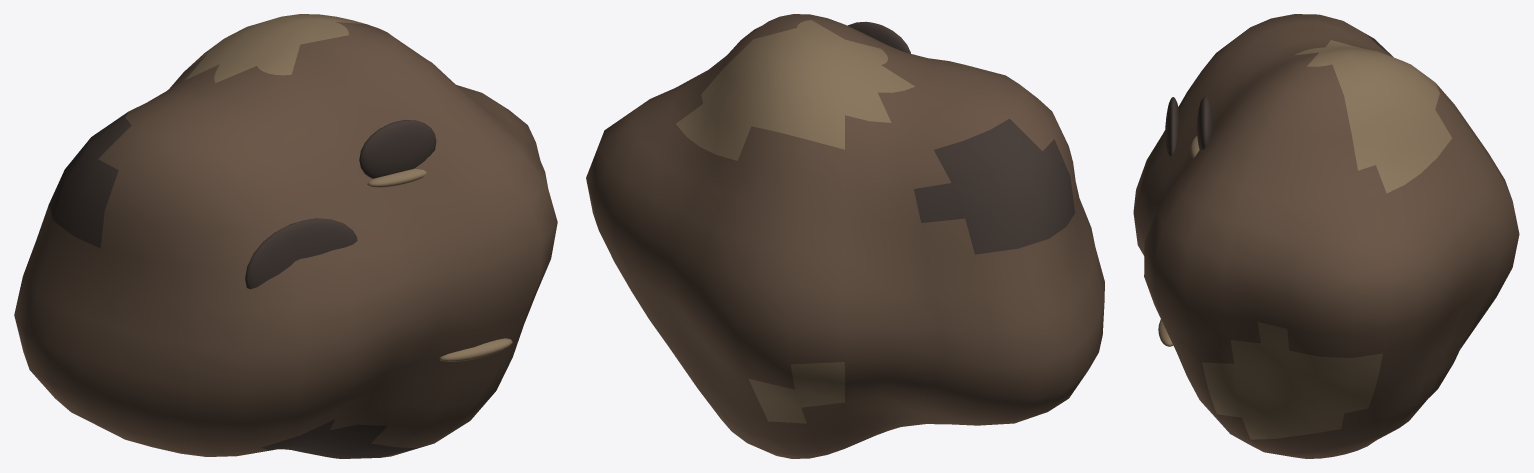
The model's file is warm_asteroid.glb.
3 views of the same model, side by side, from view 1: azimuth 30°, elevation 25°; view 2: azimuth 150°, elevation 25°; view 3: azimuth 270°, elevation 25° (orthographic). The views are drawn at different scales.
Visible parts, largest first — view 1: RockBody, CraterBasin_0, CraterBasin_2, CraterLip_1, CraterLip_2; view 2: RockBody, CraterBasin_2; view 3: RockBody, CraterBasin_2, CraterBasin_0.
Boxes of the visible parts, box(x1,y1,x2,y2) form: RockBody: box(14, 14, 557, 458); CraterBasin_0: box(245, 218, 357, 289); CraterBasin_2: box(359, 120, 436, 178); CraterLip_1: box(439, 338, 512, 361); CraterLip_2: box(367, 169, 426, 187); RockBody: box(586, 14, 1104, 458); CraterBasin_2: box(847, 21, 910, 53); RockBody: box(1133, 14, 1519, 458); CraterBasin_2: box(1197, 96, 1213, 149); CraterBasin_0: box(1165, 97, 1178, 155).
Size of the model in its own units: 2.05 by 1.7 by 1.56.
